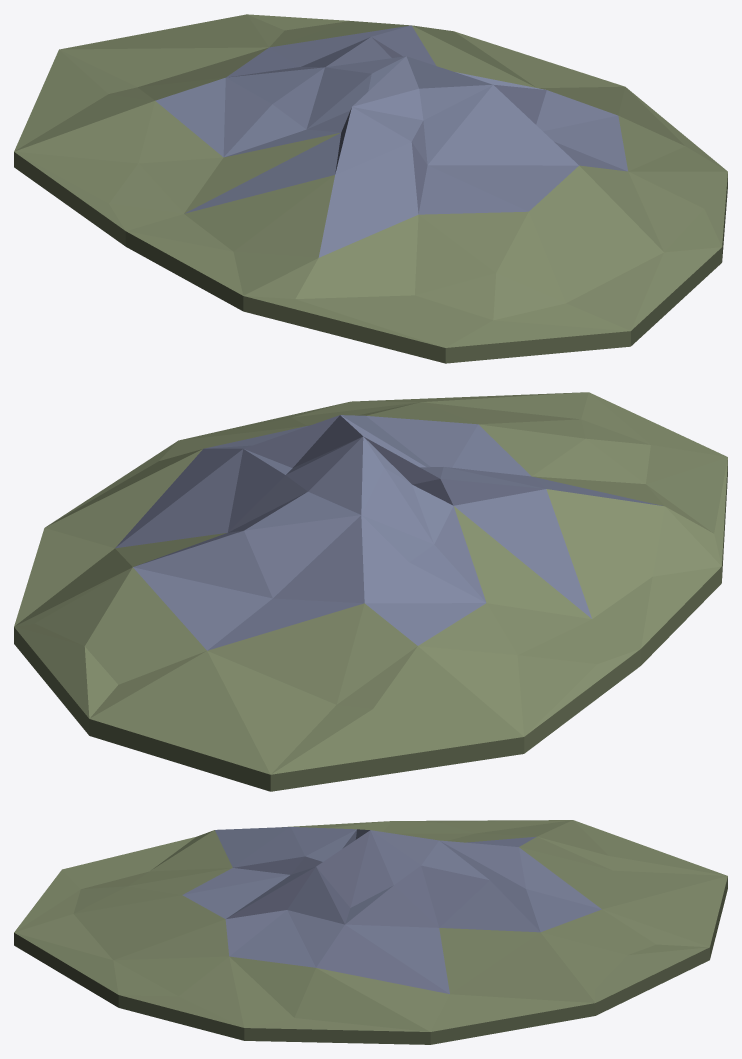
File: massif_west_foothill.glb
3 renders of one model, top to bottom at view 1: azimuth 30°, elevation 25°; view 2: azimuth 150°, elevation 25°; view 3: azimuth 270°, elevation 25°, orthographic. The views are drawn at different scales.
Parts seen in each view (by area): view 1: massif_west_foothill; view 2: massif_west_foothill; view 3: massif_west_foothill.
Boxes of the visible parts, x1=… form: massif_west_foothill: x1=14, y1=14, x2=727, y2=363; massif_west_foothill: x1=14, y1=392, x2=727, y2=791; massif_west_foothill: x1=14, y1=820, x2=727, y2=1044.
Bounding box in the file's own units: 388 × 95.33 × 552.
